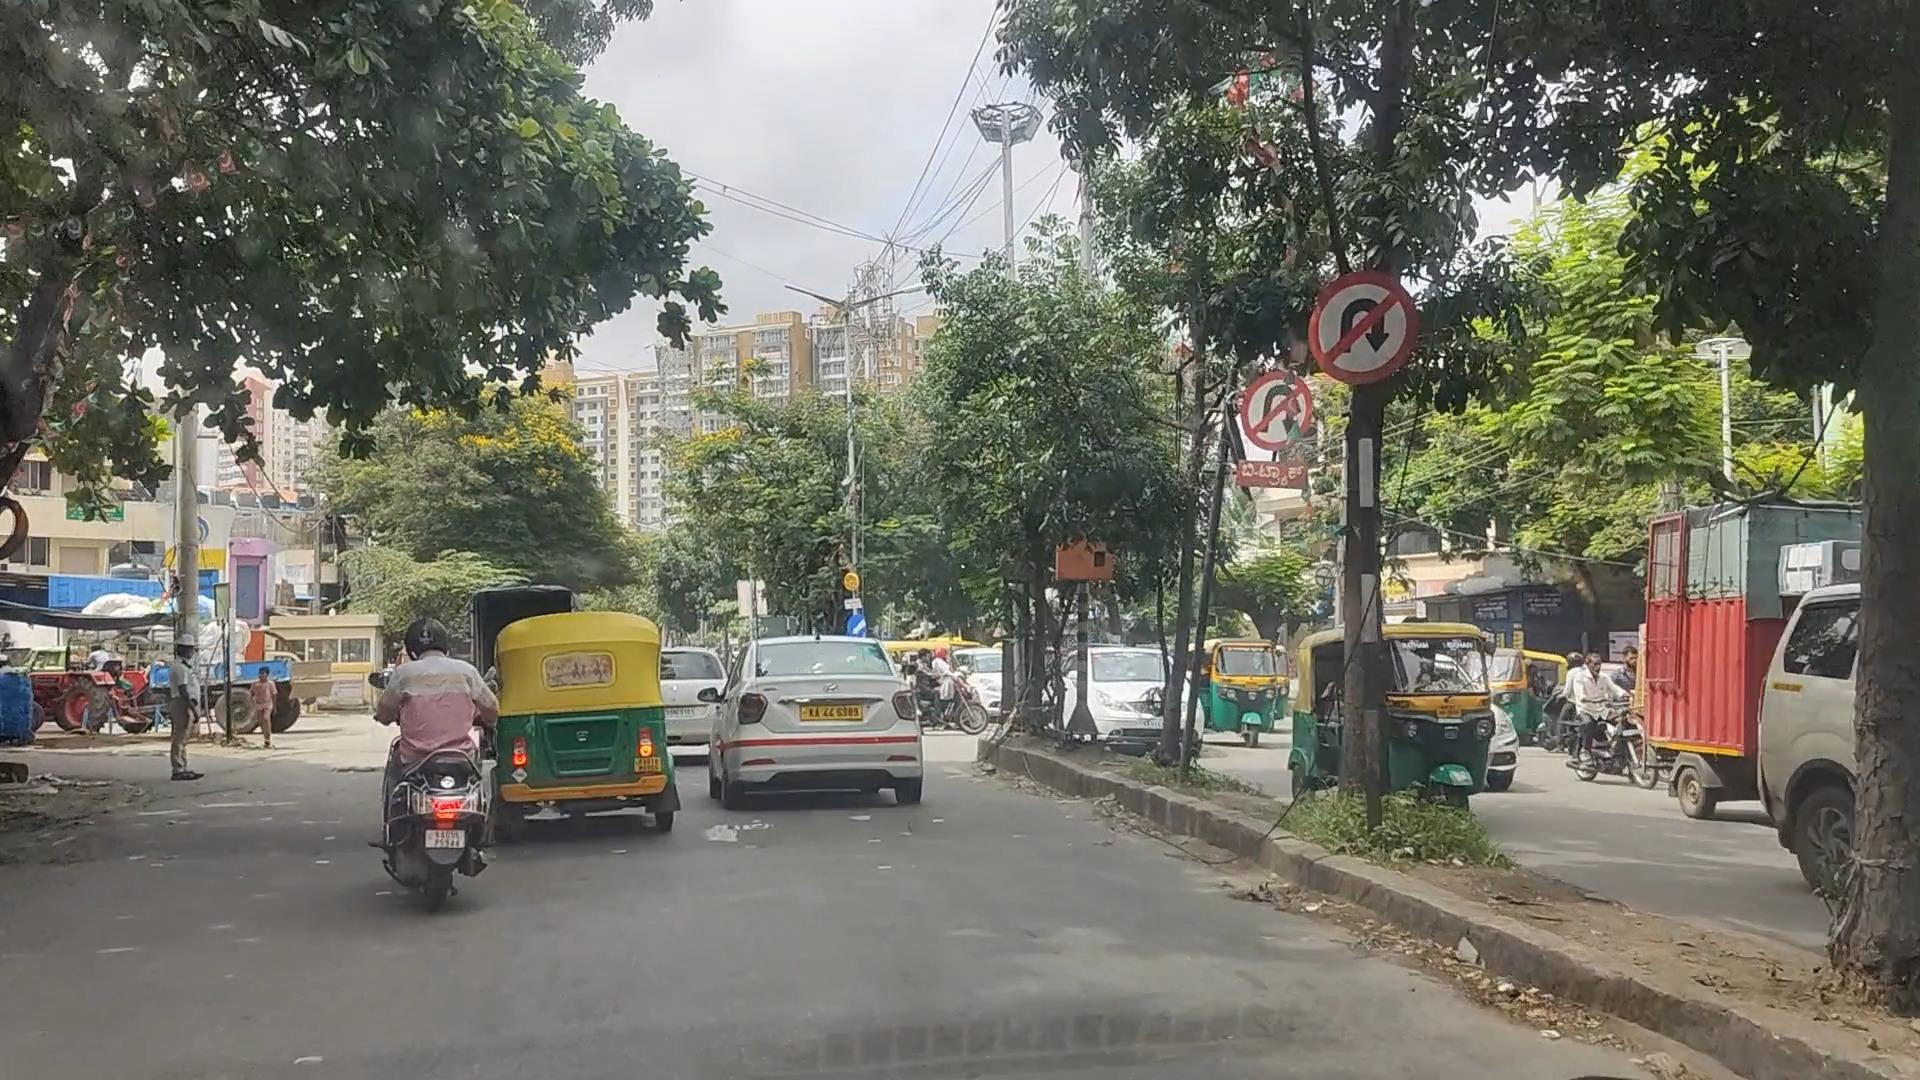LMV: (344, 634, 500, 914), (498, 616, 678, 829), (712, 661, 898, 800)
